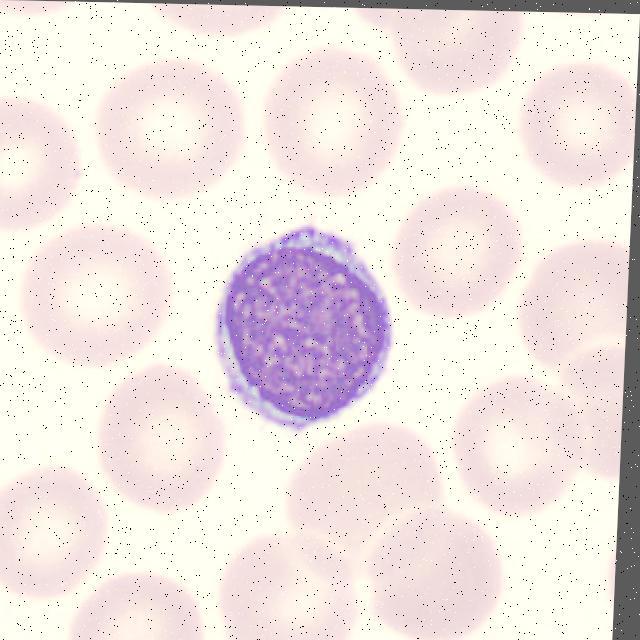lymphocyte: (204, 216, 401, 432)
rbc: (281, 438, 457, 577), (14, 225, 177, 364), (96, 60, 251, 199), (95, 368, 234, 514), (453, 376, 593, 514), (268, 55, 401, 194), (215, 527, 372, 640), (362, 516, 503, 640), (392, 187, 519, 318), (515, 243, 630, 387), (520, 61, 638, 198), (0, 473, 106, 590), (0, 96, 87, 234), (537, 339, 625, 472), (386, 9, 520, 92), (63, 571, 214, 640), (141, 3, 289, 31), (343, 8, 408, 31), (0, 0, 88, 15), (546, 12, 621, 21)
